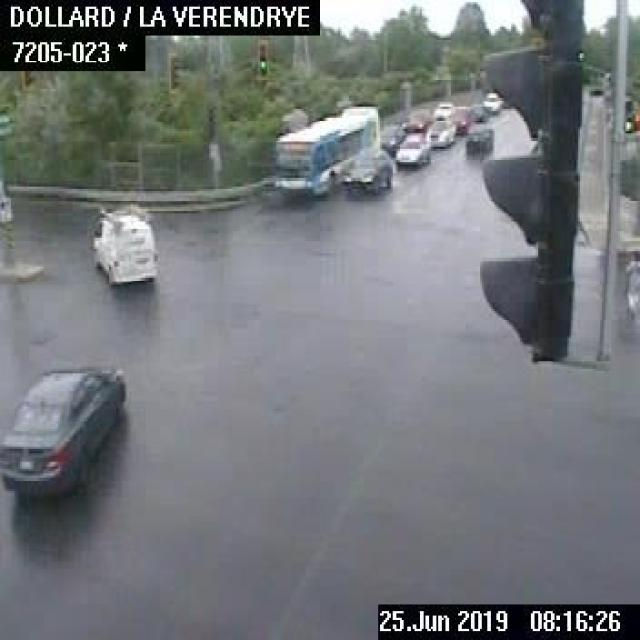bus: (269, 104, 382, 198)
vehicle: (0, 364, 127, 502), (86, 206, 158, 286), (343, 148, 391, 196), (390, 130, 430, 163), (463, 121, 492, 150), (427, 117, 455, 147), (400, 106, 430, 129), (379, 122, 403, 149), (451, 105, 474, 132), (429, 99, 454, 116), (482, 91, 500, 112), (469, 102, 484, 120)
